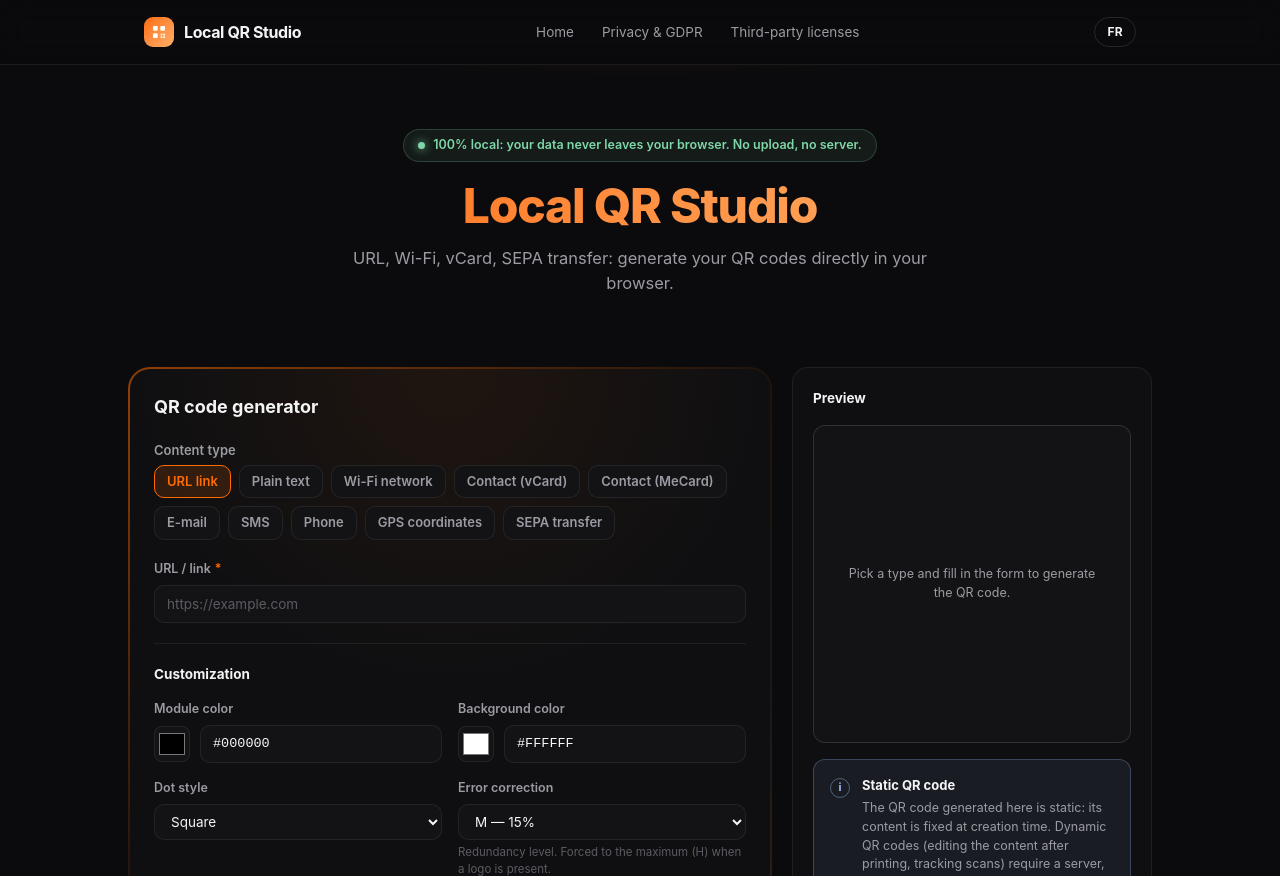
Test: Shell › navigates to the privacy page and back
Click the button "Privacy & GDPR": {"x": 652, "y": 32} [590,16,715,48]
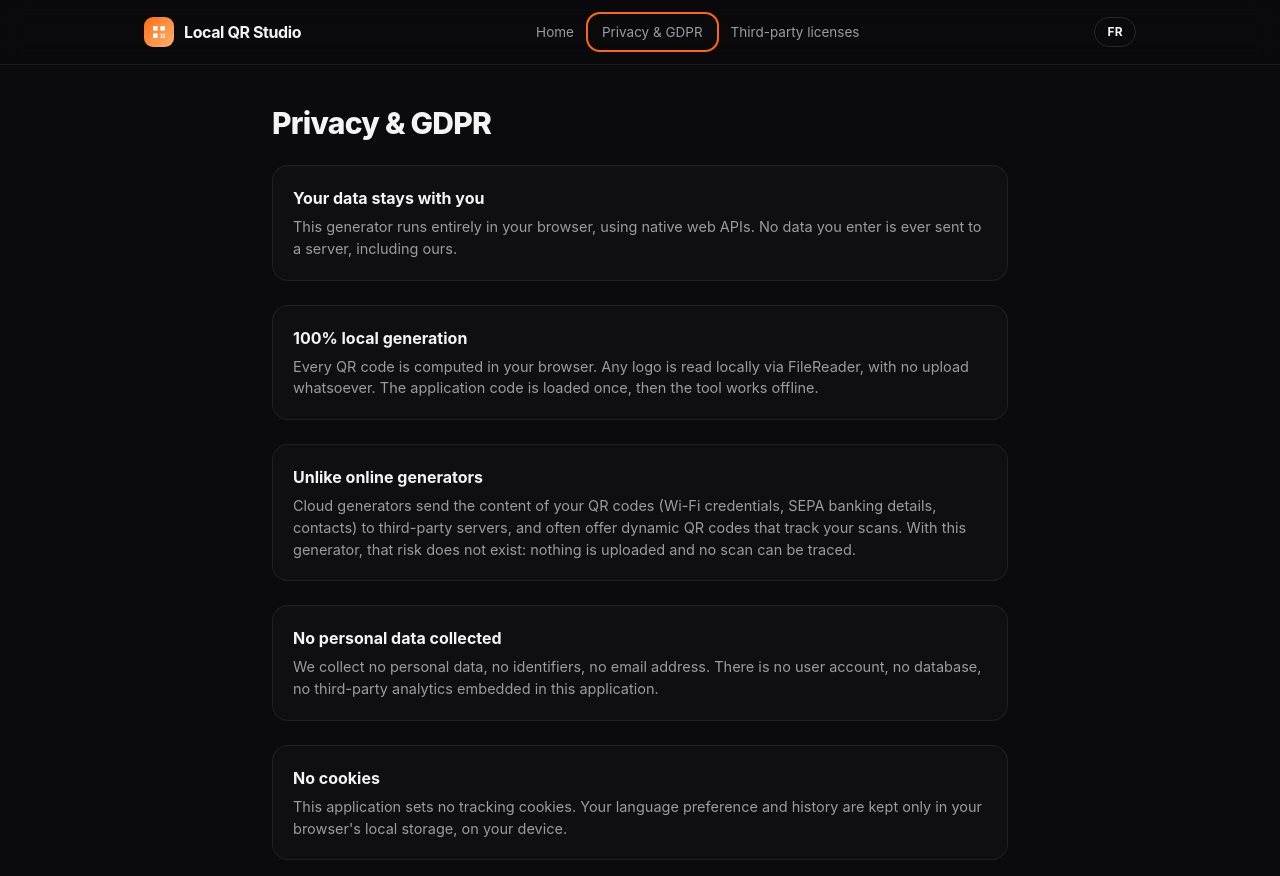
Result: the heading "Privacy & GDPR" is shown at [272,105,491,141]
